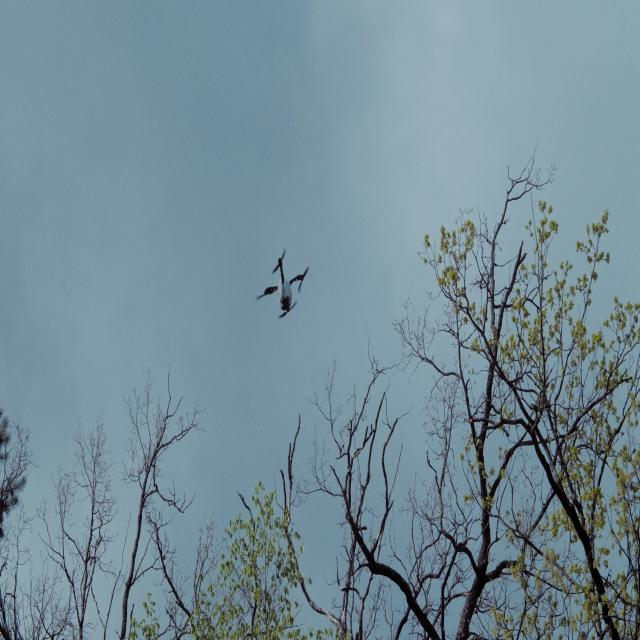Drone: (258, 250, 312, 330)
